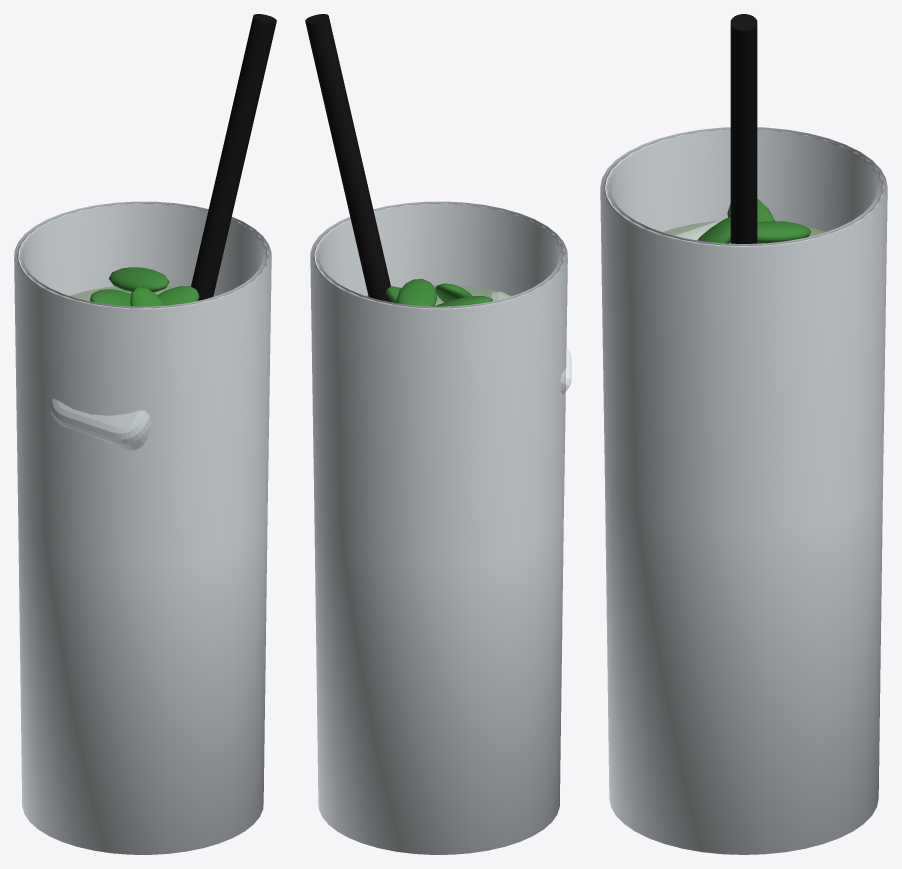
File: cocktail-mojito-fidel.glb
3 views of the same model, side by side, from view 1: azimuth 30°, elevation 25°; view 2: azimuth 150°, elevation 25°; view 3: azimuth 270°, elevation 25° (orthographic). The views are drawn at different scales.
Bounding box in the file's own units: 0.0699 × 0.2076 × 0.064.
